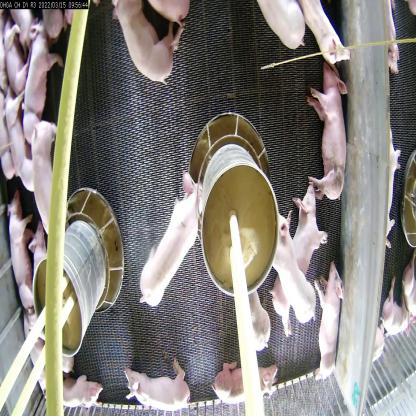Pig: (135, 170, 198, 308), (307, 52, 353, 209), (267, 219, 323, 329), (123, 0, 184, 99), (31, 120, 71, 242), (315, 261, 349, 398), (116, 360, 200, 415), (16, 20, 57, 129), (216, 357, 288, 415), (292, 179, 330, 271), (238, 271, 278, 357), (5, 202, 36, 312), (51, 365, 110, 415)
